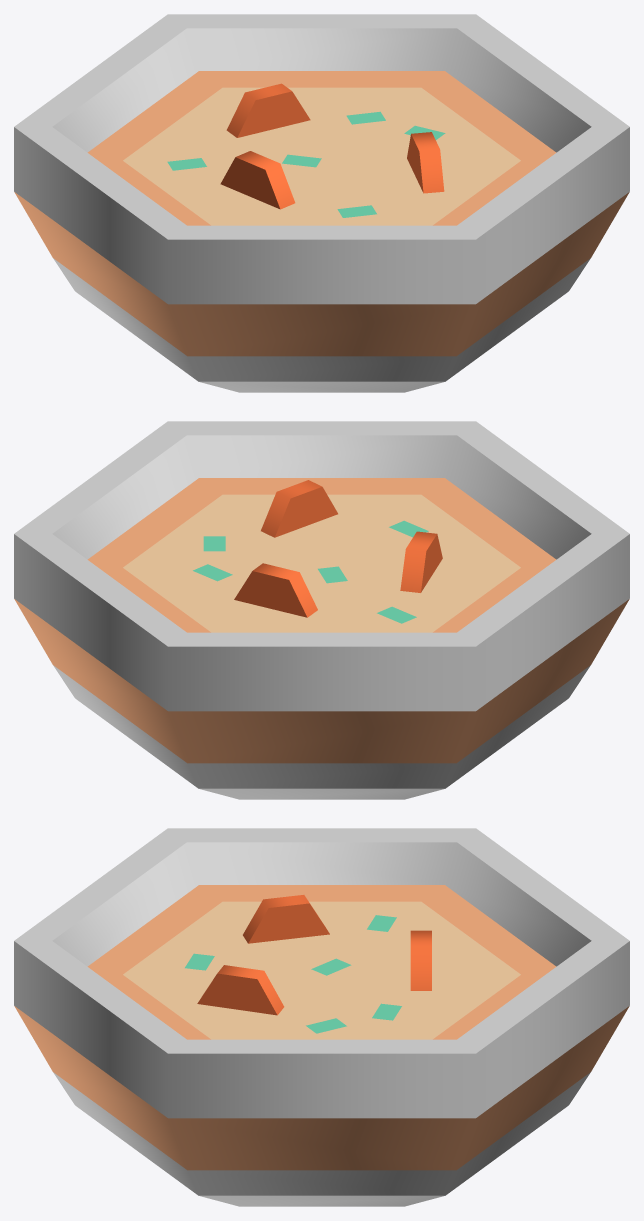
The model's file is Bowl_Soup.glb.
3 views of the same model, one above another, from view 1: azimuth 30°, elevation 25°; view 2: azimuth 150°, elevation 25°; view 3: azimuth 270°, elevation 25° (orthographic).
Parts seen in each view (by area): view 1: bowlSoup; view 2: bowlSoup; view 3: bowlSoup.
Part boxes in pixels (<box>): bowlSoup: <box>14,14,629,392</box>; bowlSoup: <box>14,421,629,799</box>; bowlSoup: <box>14,828,629,1206</box>.
Size of the model in its own units: 0.5022 by 0.2138 by 0.5798.
